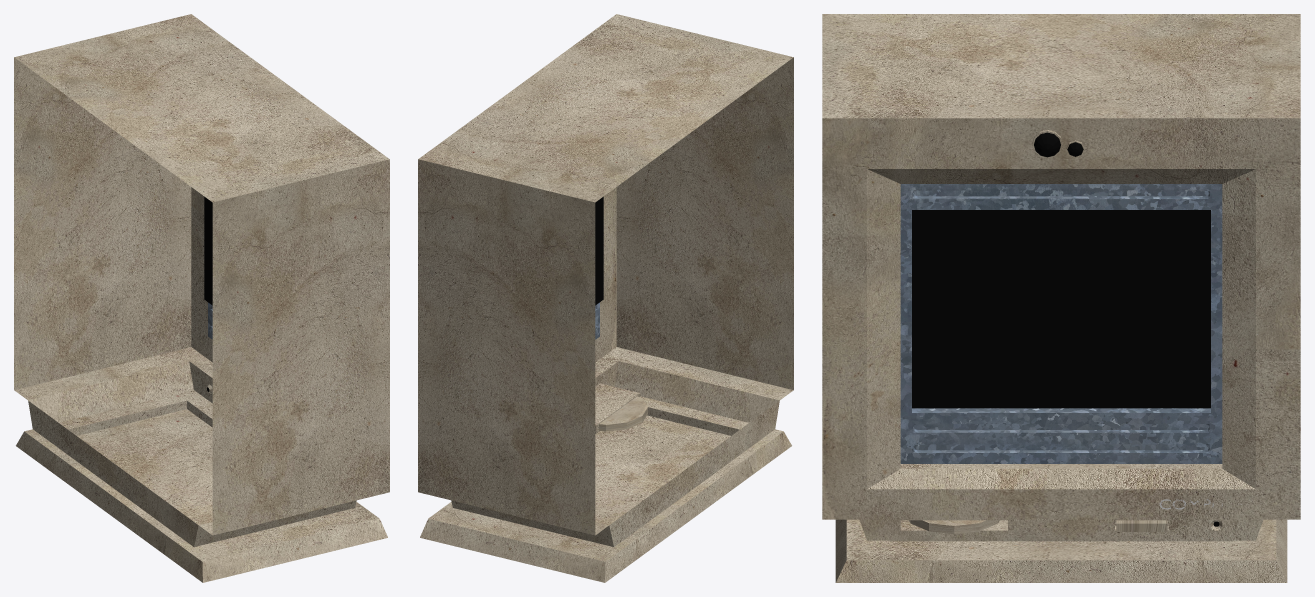
Rendered from computer.gltf.
The picture shows the model from 3 angles, left to right: view 1: azimuth 30°, elevation 25°; view 2: azimuth 150°, elevation 25°; view 3: azimuth 270°, elevation 25°; orthographic projection. The views are drawn at different scales.
Visible parts, largest first — view 1: Main Body, Screen; view 2: Main Body, Cylinder, Screen; view 3: Main Body, Screen, Inset, Cylinder, PowerButton.
Boxes of the visible parts, x1,y1,x2,y2 form: Main Body: (14,14,389,582); Screen: (204,196,212,305); Main Body: (418,14,793,582); Cylinder: (599,396,647,431); Screen: (595,196,603,305); Main Body: (822,14,1300,582); Screen: (912,210,1210,408); Inset: (900,184,1222,463); Cylinder: (909,520,999,534); PowerButton: (1116,520,1167,531).
Size of the model in its own units: 2.37 by 4.55 by 4.27.
Materials: 3 (2 with a texture image).
